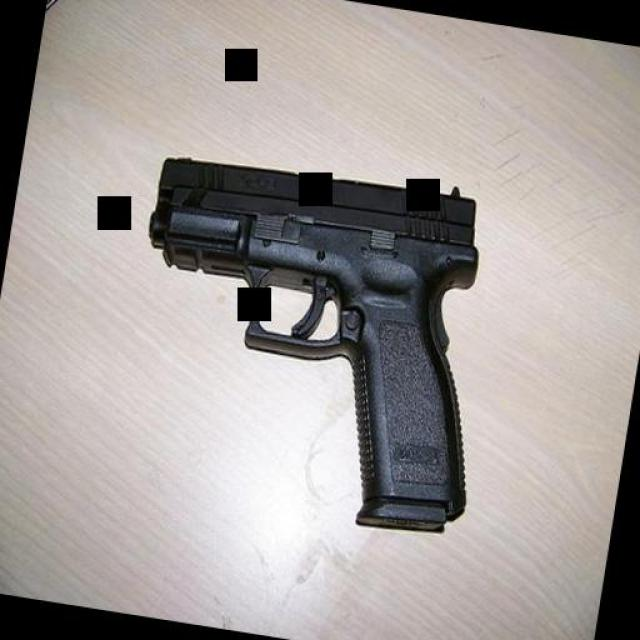gun: (103, 140, 515, 548)
